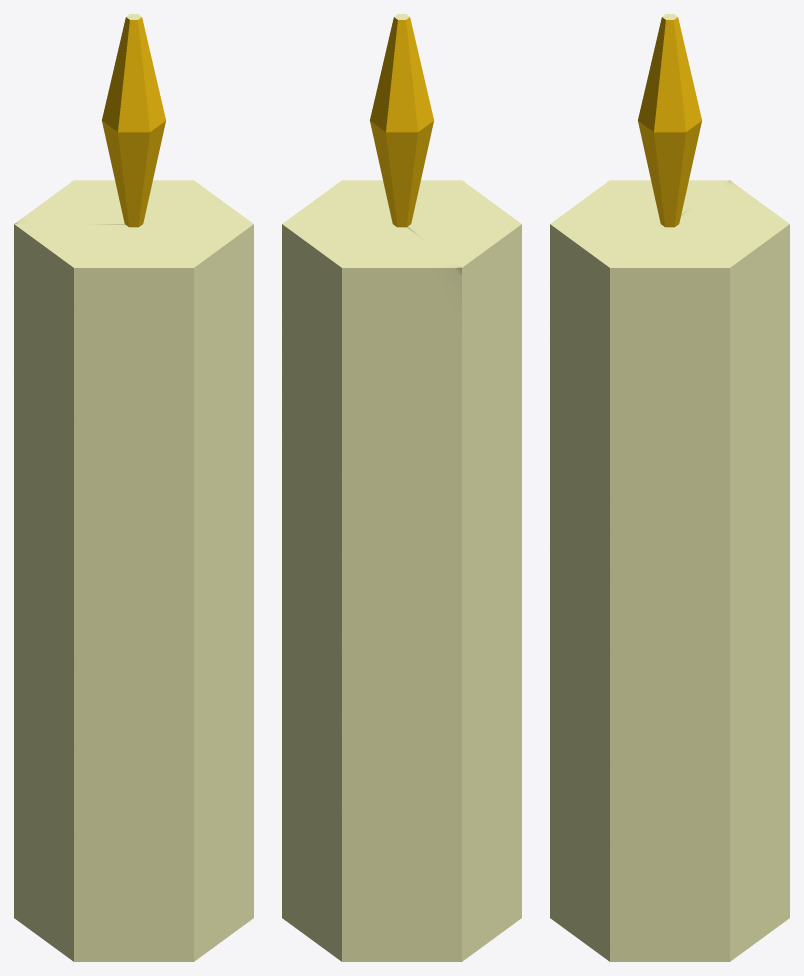
Rendered from vela.fbx.
3 views of the same model, side by side, from view 1: azimuth 30°, elevation 25°; view 2: azimuth 150°, elevation 25°; view 3: azimuth 270°, elevation 25° (orthographic).
Parts seen in each view (by area): view 1: Cylinder; view 2: Cylinder; view 3: Cylinder.
Boxes of the visible parts, x1,y1,x2,y2 form: Cylinder: (14, 14, 253, 961); Cylinder: (282, 14, 521, 961); Cylinder: (550, 14, 789, 961).
Bounding box in the file's own units: 173 × 829 × 200.
Materials: 1 (1 with a texture image).
